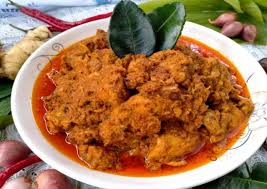rendang: (26, 12, 261, 175)
